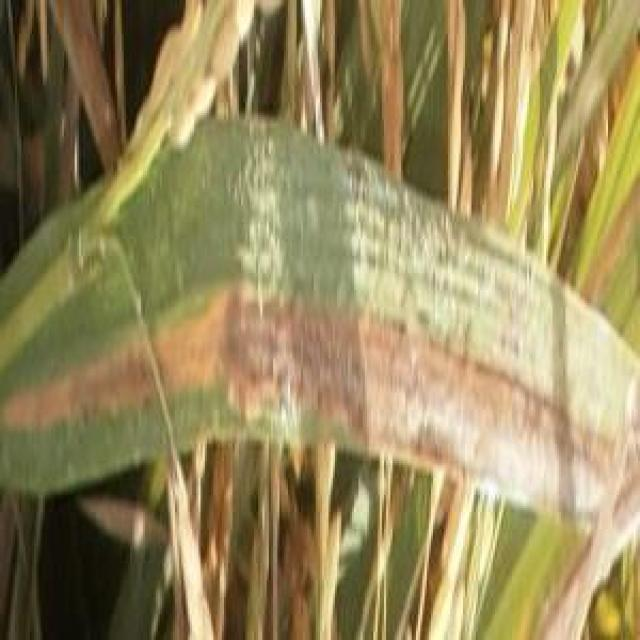Bacterial_Blight: (1, 290, 640, 521)
